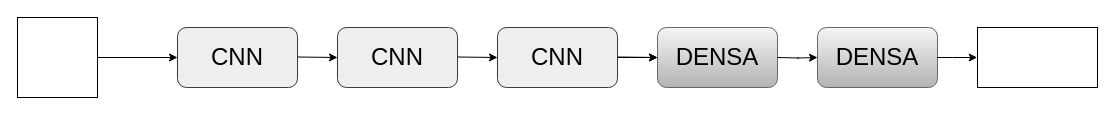
Image size: 1115x115. Some labels were removed from this diagram. Here are the shapes that lost their labels. From the top down, the centre of each, then its label:
At point (57, 57): "IMAGEM".
At point (1037, 57): "CLASSE".
